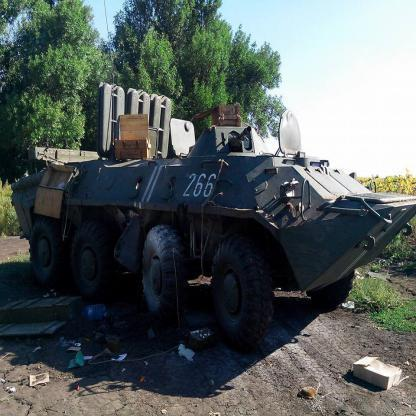MIL_IFV: (12, 79, 413, 342)
